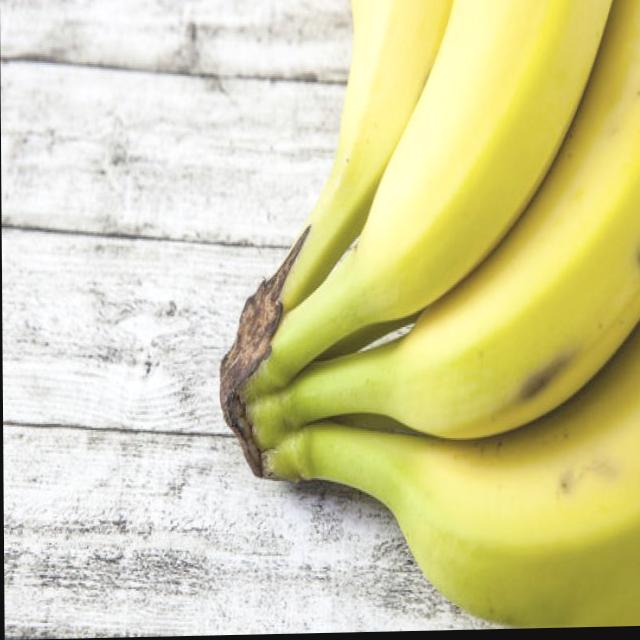banana: (217, 0, 640, 635)
